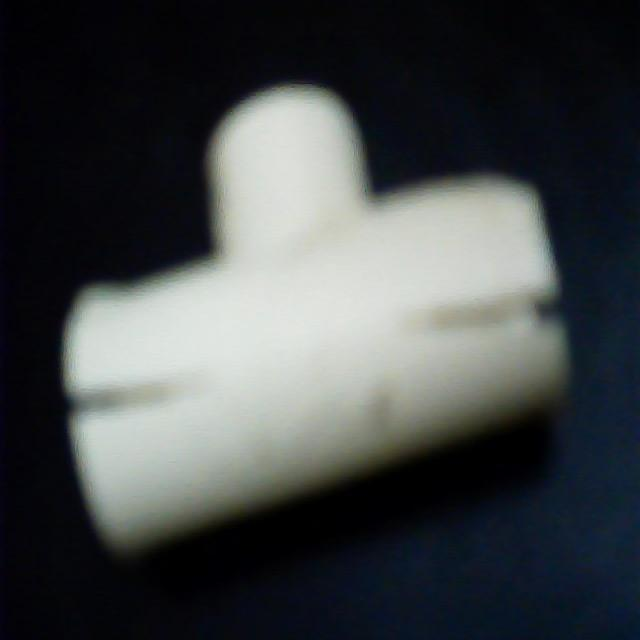Defective: (61, 374, 228, 429), (422, 299, 586, 338)
T Joint: (58, 84, 570, 571)
